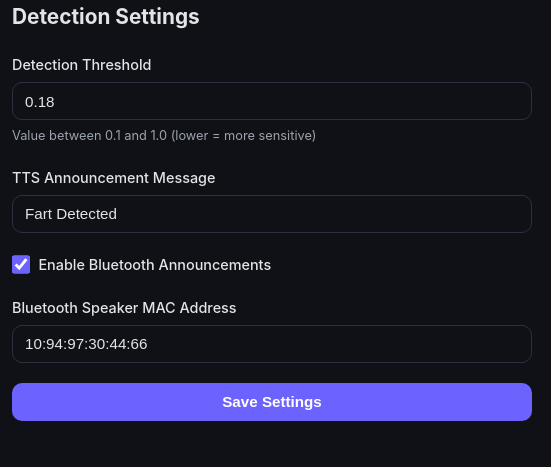
Test: SettingsForm component › edge case: shows error when threshold is cleared
Step 1. Clear the field labelled "Detection Threshold" → x=272, y=101, box [12,82,532,120]
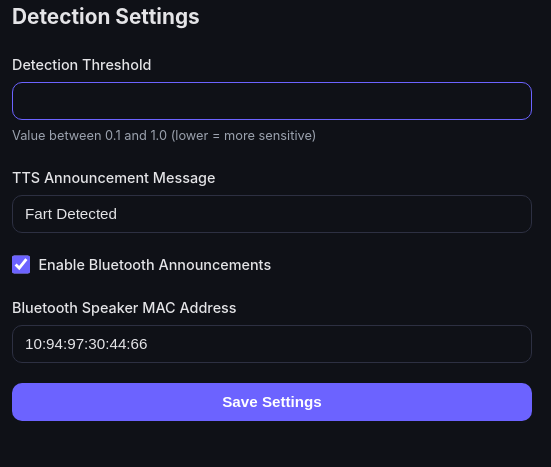
Step 2. Click the button "Save Settings" → x=272, y=402, box [12,383,532,421]
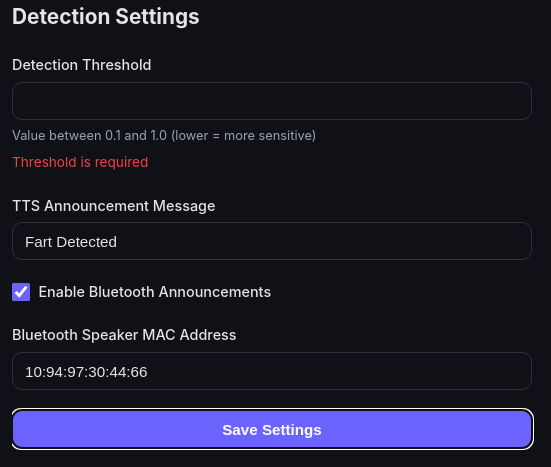
expect the text "Threshold is required" is shown: met, box [12,154,148,170]
